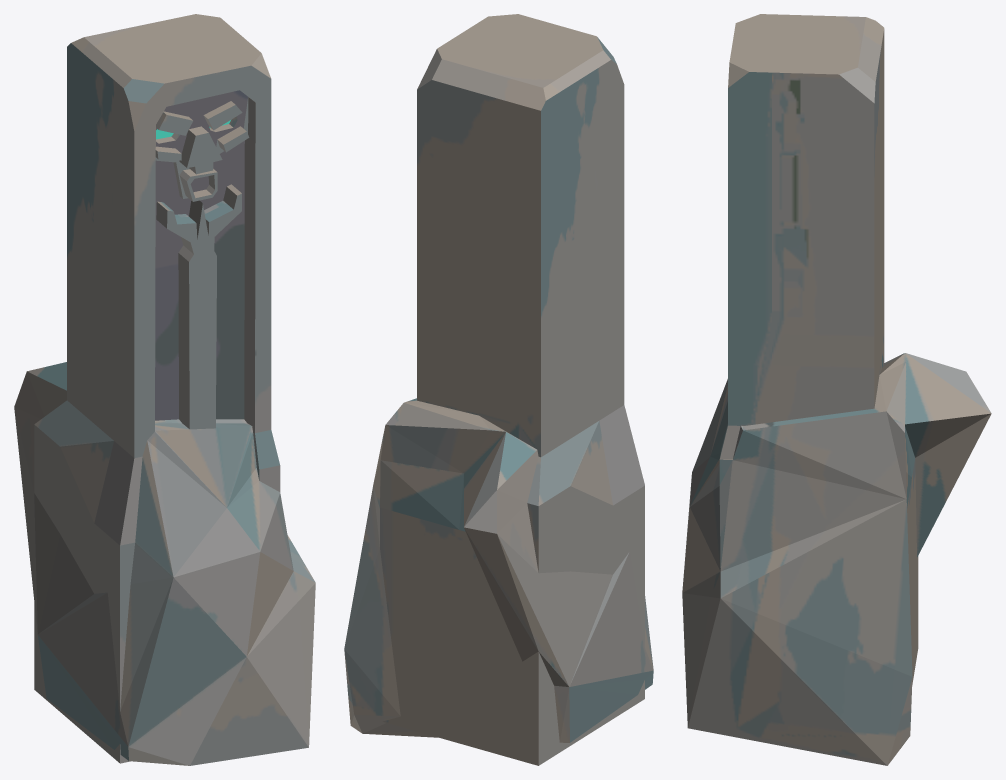
Rendered from s_stone ghost02_01.fbx.
The picture shows the model from 3 angles, left to right: view 1: azimuth 30°, elevation 25°; view 2: azimuth 150°, elevation 25°; view 3: azimuth 270°, elevation 25°; orthographic projection. The views are drawn at different scales.
Parts seen in each view (by area): view 1: s_stone ghost02_01; view 2: s_stone ghost02_01; view 3: s_stone ghost02_01.
Boxes of the visible parts, <box> form: s_stone ghost02_01: <box>14,14,315,765</box>; s_stone ghost02_01: <box>344,14,653,765</box>; s_stone ghost02_01: <box>682,14,991,765</box>.
Bounding box in the file's own units: 171 × 510 × 215.
Materials: 1 (1 with a texture image).
